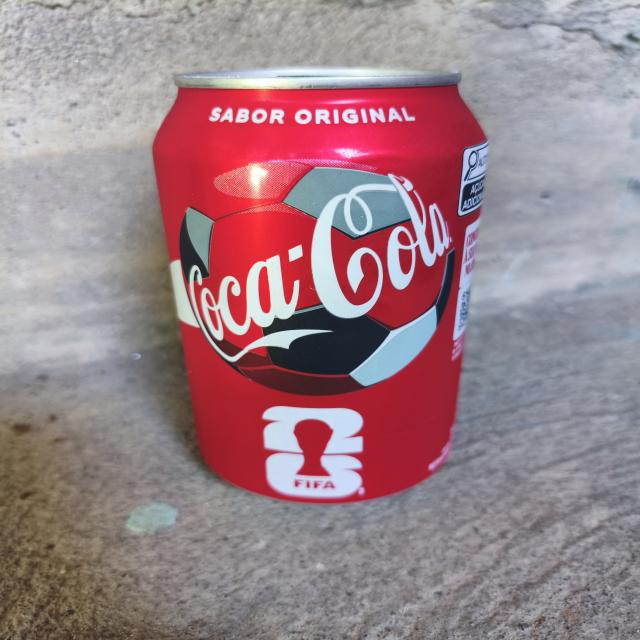Coca Cola: (139, 55, 506, 512)
